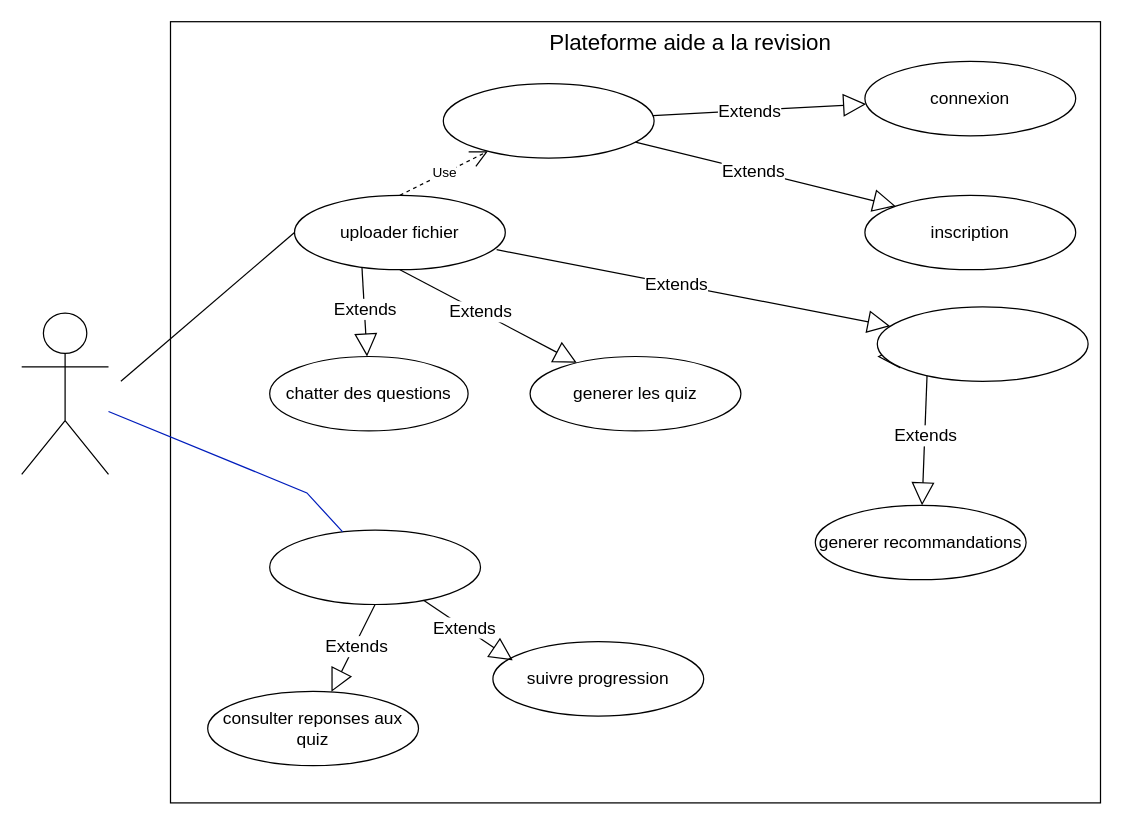
The diagram is 1123 pixels wide and 825 high, and some of its shapes have lost their labels. Each missing label, with the centre of its shape:
"authentification" goes at point 548,120.
"generer des resume" goes at point 982,343.
"passer quiz" goes at point 374,566.
"utilisateur" goes at point 64,393.
